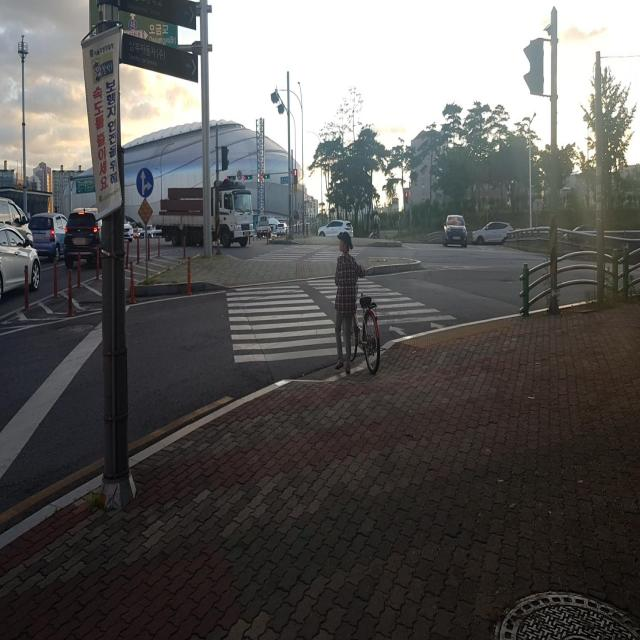횡단보도: (225, 276, 458, 364)
